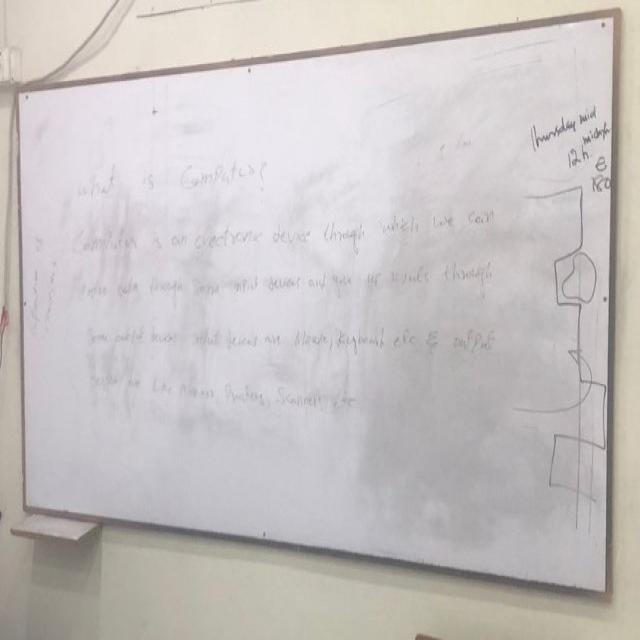White-board: (14, 14, 613, 593)
